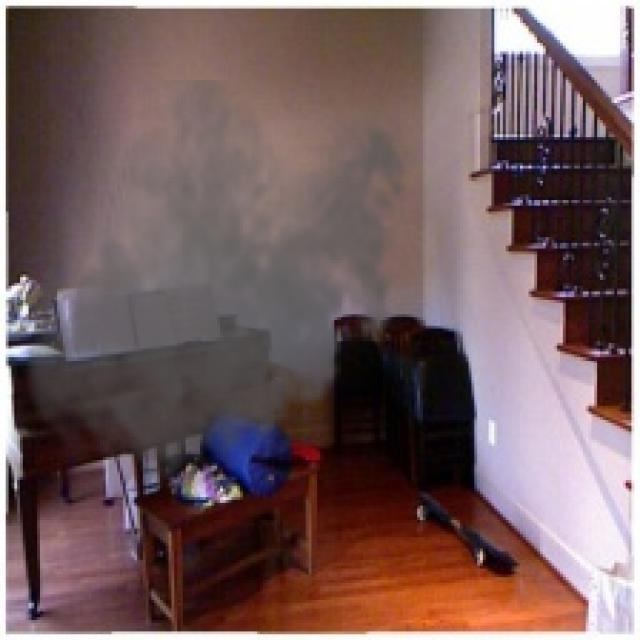smoke: (17, 80, 420, 500)
